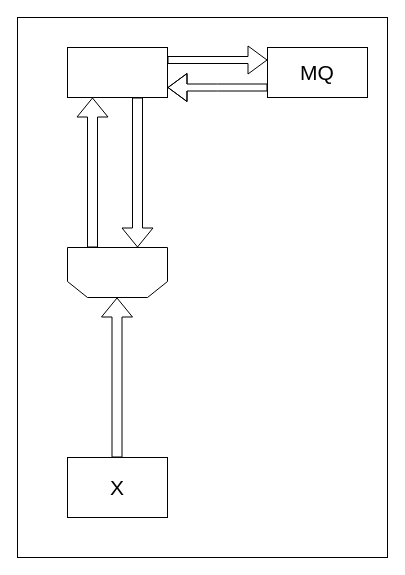
Some shapes in this 405 by 575 pixel diagram are drawn without their labels. The centre of each missing label's shape, as x and y in pixels:
"ACC" goes at (117,72).
"ALU" goes at (117,272).
